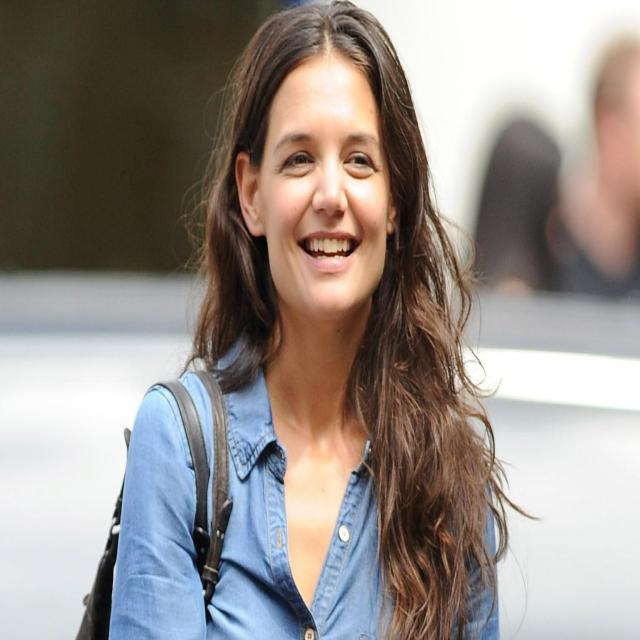no-earmuff: (234, 150, 264, 236)
